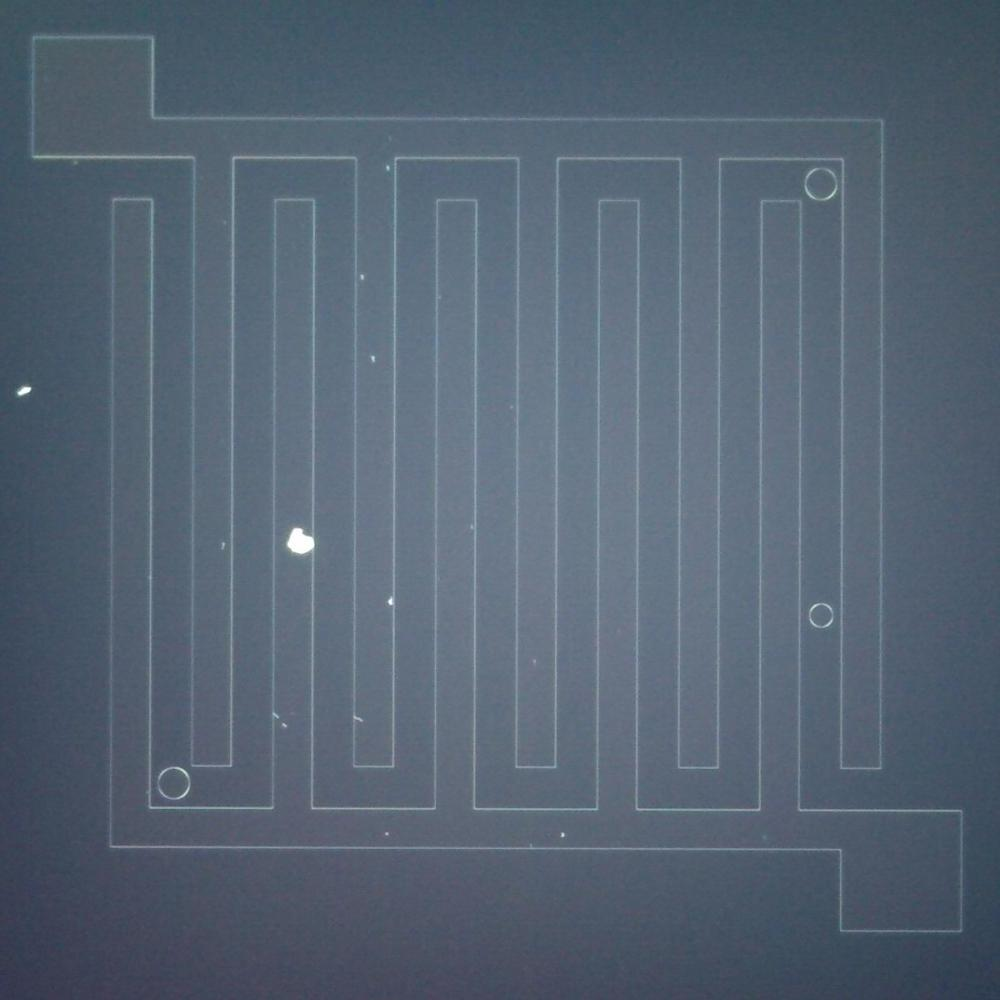circle: (801, 163, 840, 204), (152, 766, 194, 804), (806, 601, 836, 632)
dot: (551, 820, 578, 844), (361, 346, 383, 368), (352, 265, 373, 287)
spot: (284, 522, 314, 558), (11, 382, 32, 400)
